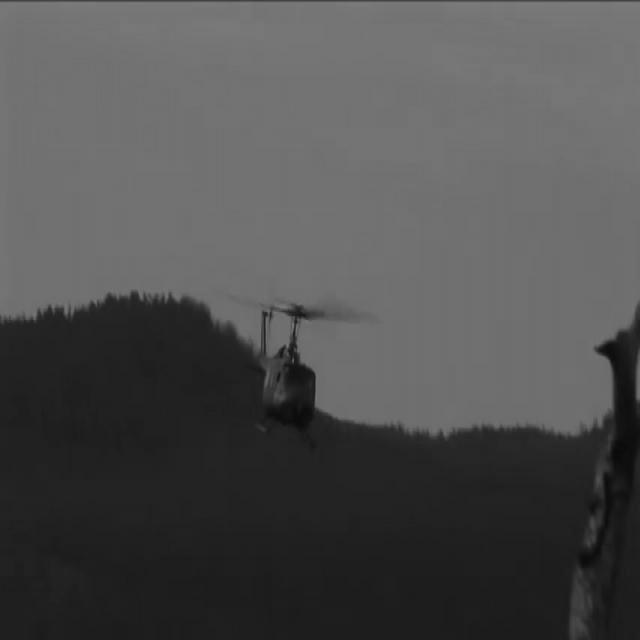helikopter: (236, 282, 358, 460)
